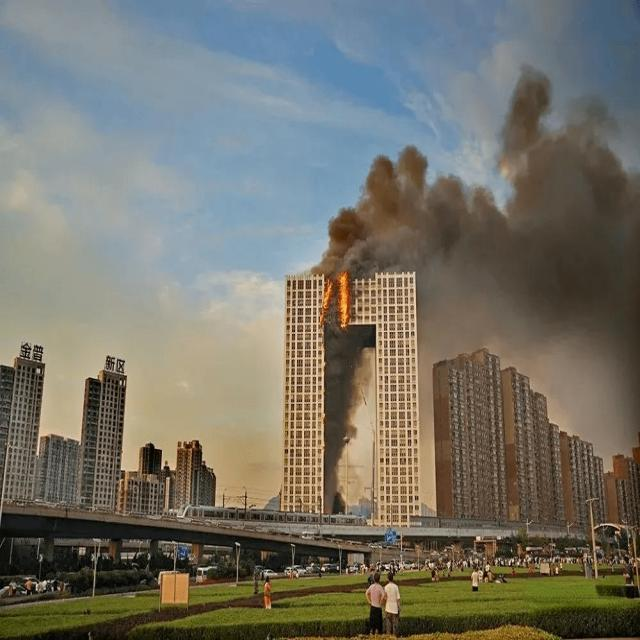Fire: (336, 273, 350, 329), (321, 273, 332, 329)
Smoke: (418, 68, 638, 346), (314, 143, 418, 271), (325, 328, 372, 499)
